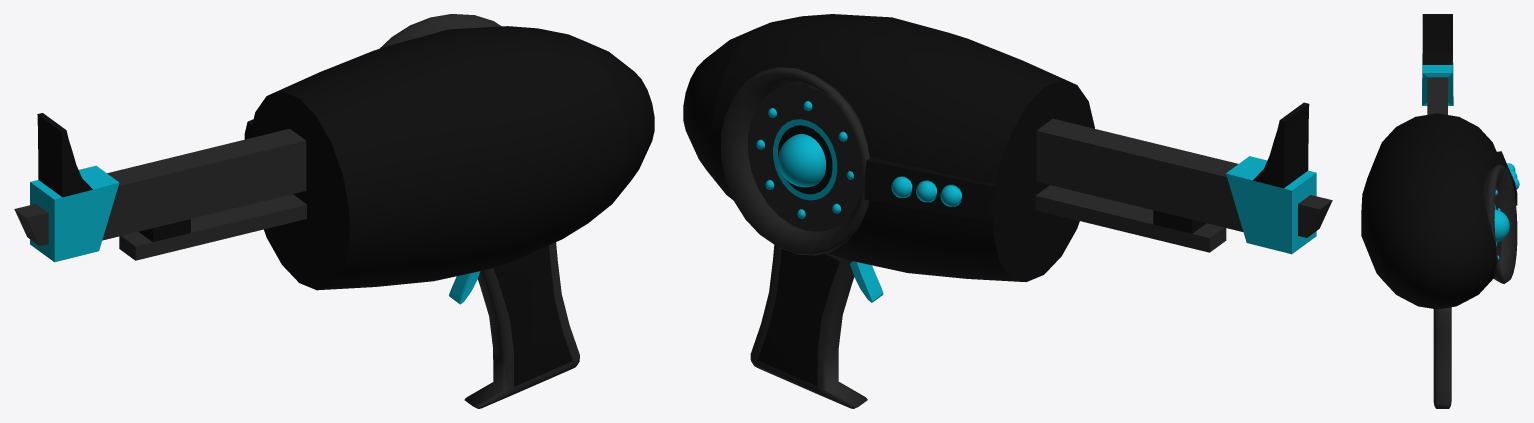
File: arme4.FBX
3 renders of one model, left to right at view 1: azimuth 30°, elevation 25°; view 2: azimuth 150°, elevation 25°; view 3: azimuth 270°, elevation 25°, orthographic. The views are drawn at different scales.
Parts seen in each view (by area): view 1: Cylindre001, Boîte002, BoîteChanfrein003, Cylindre002; view 2: Cylindre001, Boîte002, Cylindre002, BoîteChanfrein003, Cercle001, Sphère004; view 3: Cylindre001, Boîte002, Cylindre002, BoîteChanfrein003, Sphère004.
Boxes of the visible parts, bbox=[...] form: Cylindre001: bbox=[244, 26, 654, 290]; Boîte002: bbox=[14, 113, 306, 262]; BoîteChanfrein003: bbox=[449, 242, 579, 408]; Cylindre002: bbox=[380, 14, 501, 48]; Cylindre001: bbox=[683, 14, 1094, 281]; Boîte002: bbox=[1035, 102, 1332, 254]; Cylindre002: bbox=[721, 67, 869, 255]; BoîteChanfrein003: bbox=[750, 245, 883, 408]; Cercle001: bbox=[773, 119, 837, 200]; Sphère004: bbox=[778, 134, 825, 187]; Cylindre001: bbox=[1361, 113, 1517, 309]; Boîte002: bbox=[1422, 14, 1453, 114]; Cylindre002: bbox=[1483, 164, 1517, 283]; BoîteChanfrein003: bbox=[1433, 307, 1451, 408]; Sphère004: bbox=[1494, 209, 1509, 242].
Size of the model in its own units: 97.44 by 58.26 by 34.03.
